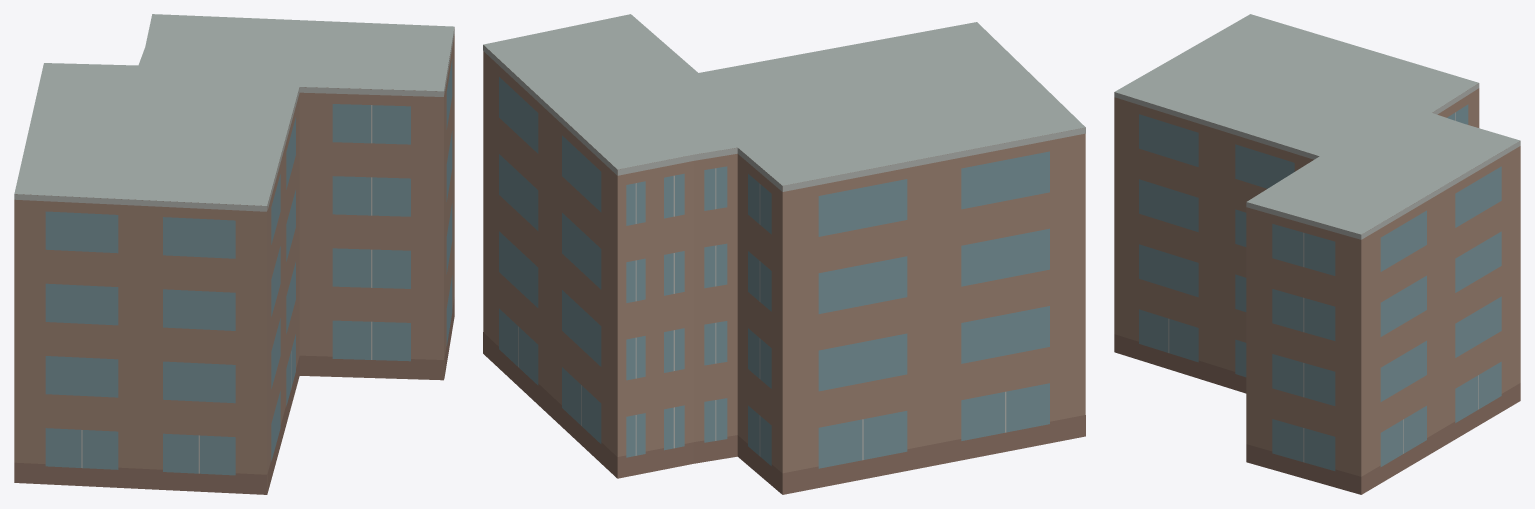
The model's file is survey-upis-32998421.glb.
3 renders of one model, left to right at view 1: azimuth 30°, elevation 25°; view 2: azimuth 150°, elevation 25°; view 3: azimuth 270°, elevation 25°, orthographic. The views are drawn at different scales.
Parts seen in each view (by area): view 1: survey-upis-32998421.tmp; view 2: survey-upis-32998421.tmp; view 3: survey-upis-32998421.tmp.
Part boxes in pixels (<box>): survey-upis-32998421.tmp: <box>14,14,454,494</box>; survey-upis-32998421.tmp: <box>483,14,1085,494</box>; survey-upis-32998421.tmp: <box>1114,14,1520,494</box>.
Bounding box in the file's own units: 22.19 × 12.2 × 17.27.
